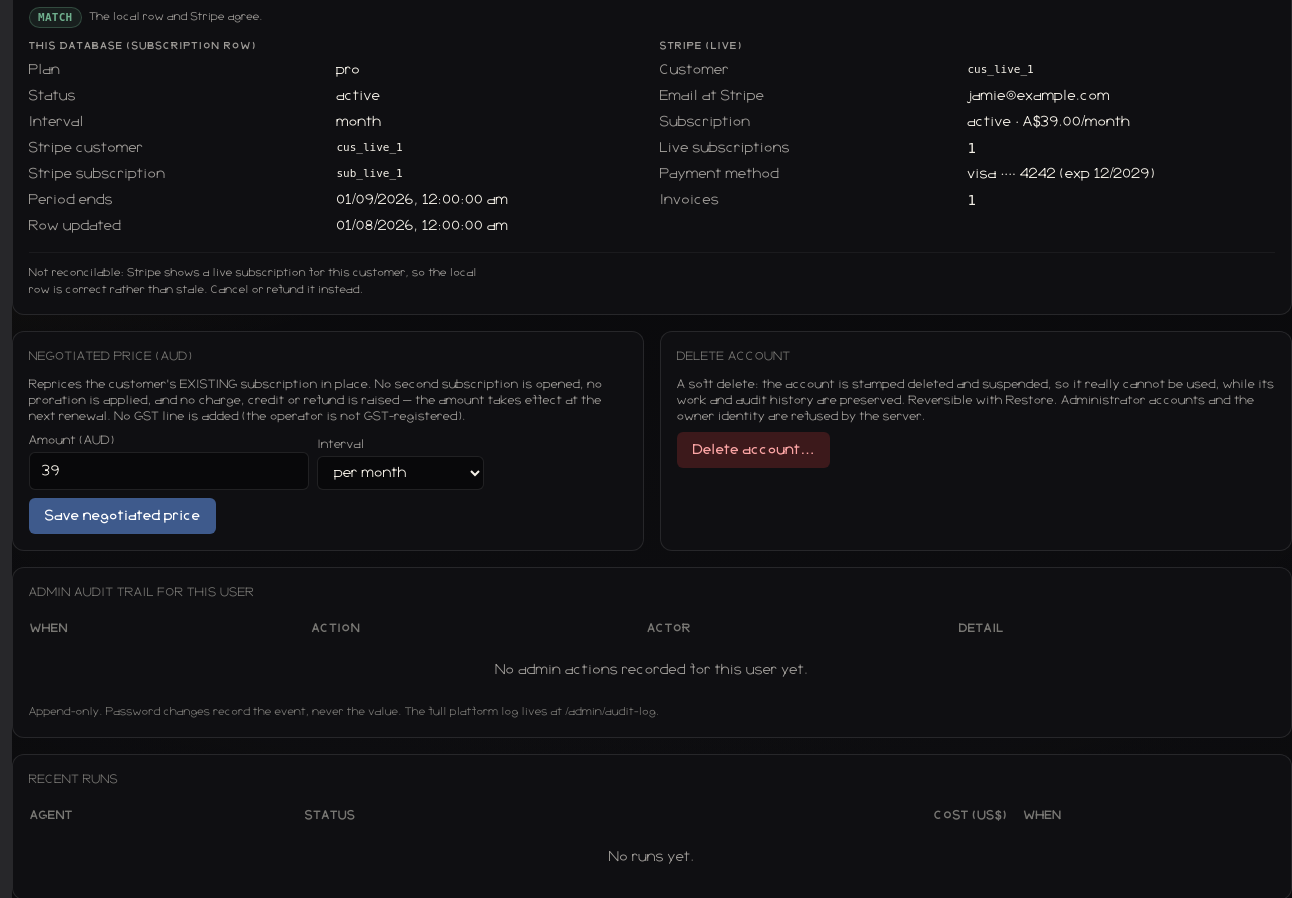
Test: negotiated custom price › sends the amount and interval, and says the change is not immediate
(page scrolled)
Replace the text in the field named "Custom amount (AUD)" with "24.50" at (169, 471), box [29,452,310,490]
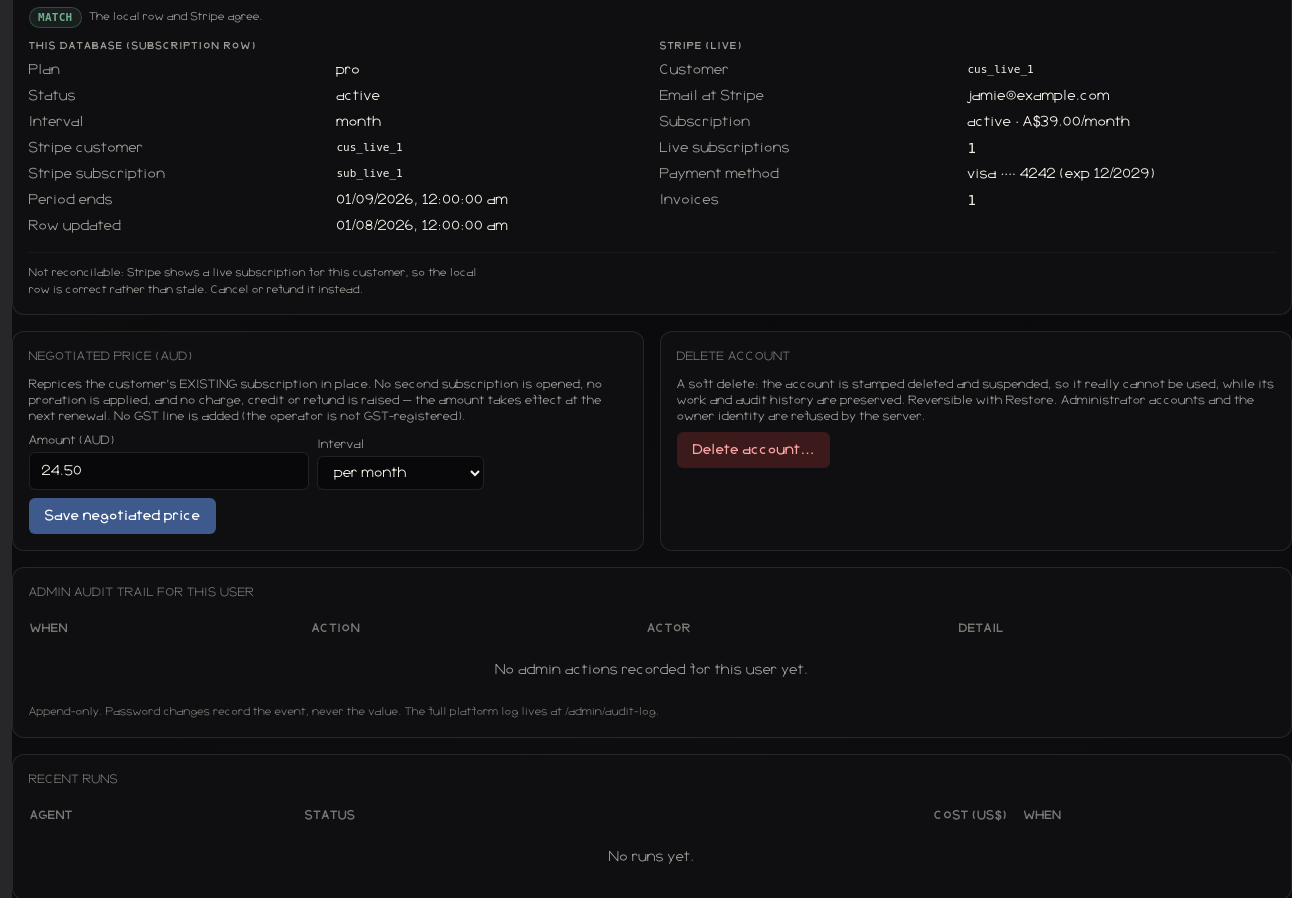
Select "per year" in the dropdown named "Billing interval" at (401, 473), box [318,456,484,490]
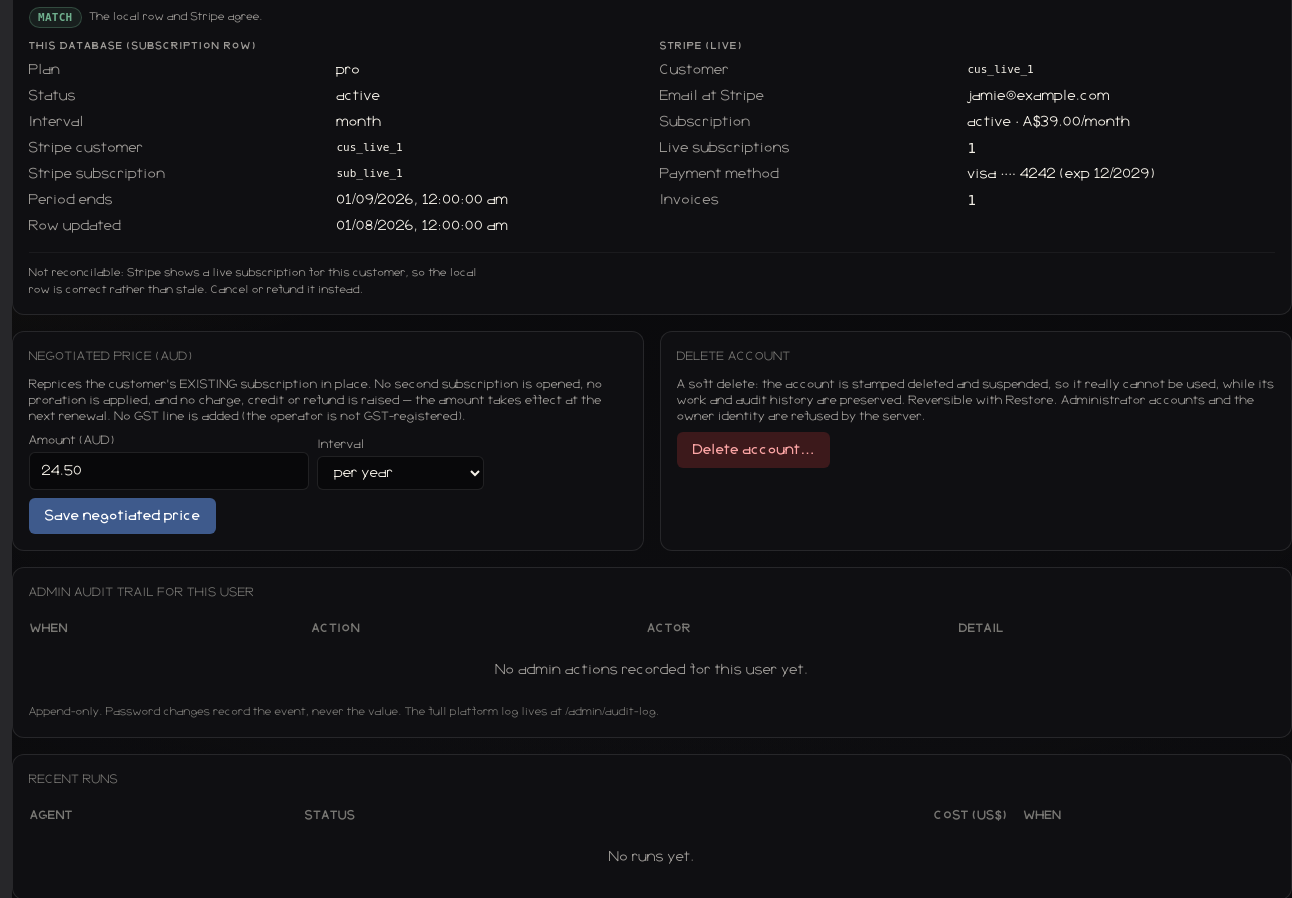
Click the button with test id "admin-custom-price-save" at (123, 516), box [29,498,216,534]
(page scrolled)
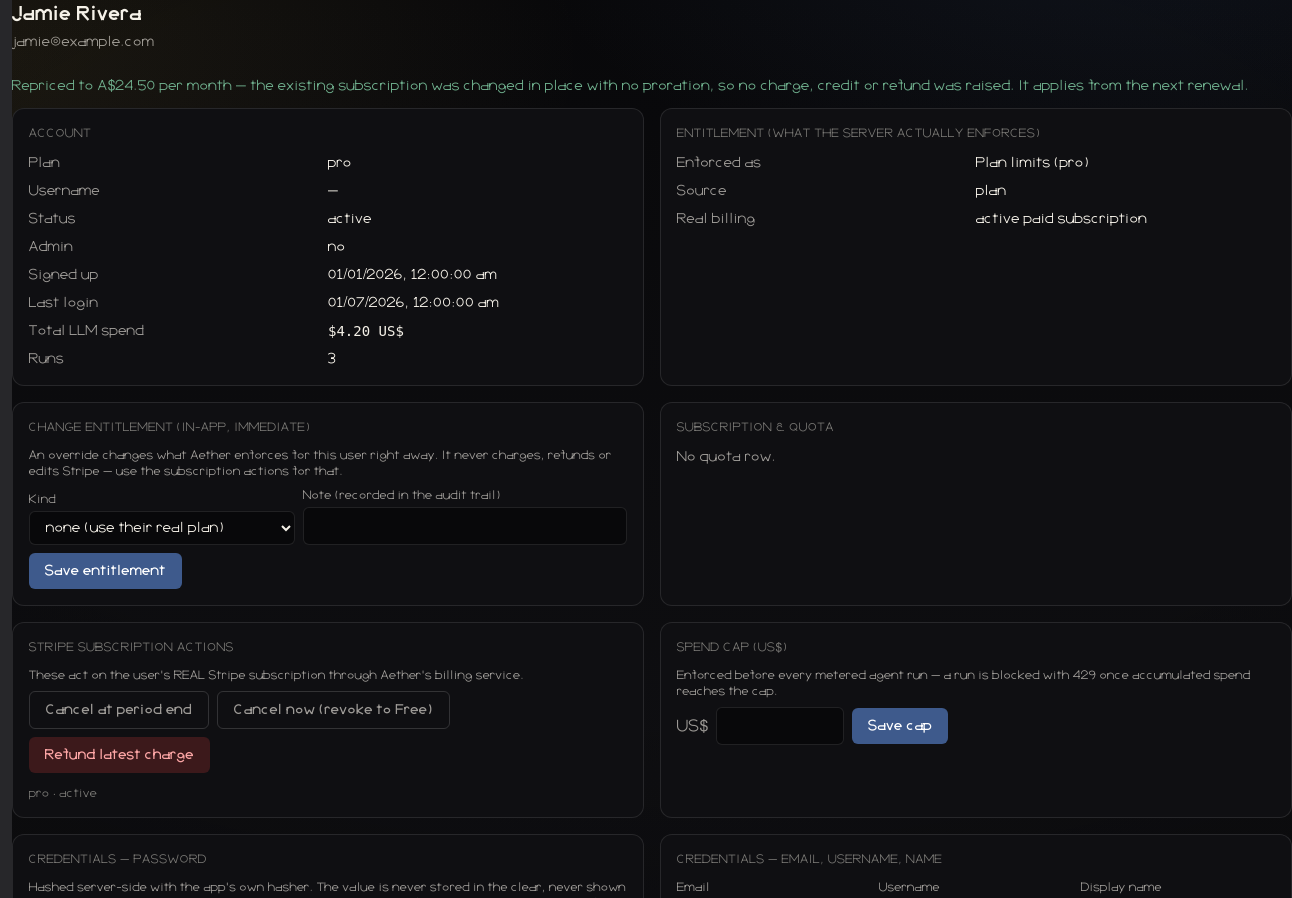
expect the message with test id "admin-user-notice" shows "next renewal": met, box [12,79,1249,93]
